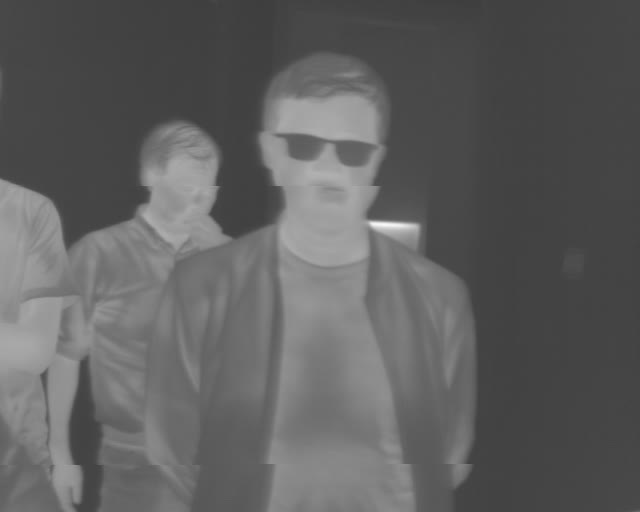face: (258, 50, 389, 223), (136, 119, 223, 236)
